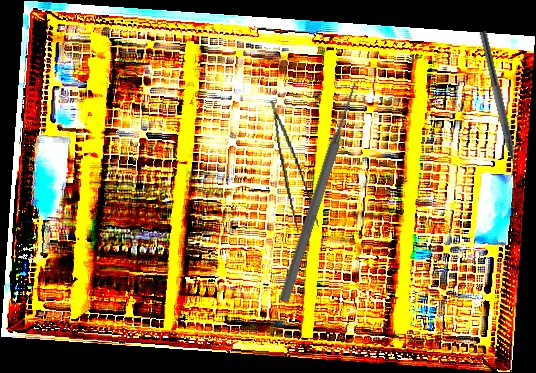Chopper: (469, 30, 524, 184)
Pusher: (276, 81, 363, 304)
Tissue Forceps: (270, 96, 320, 238)
